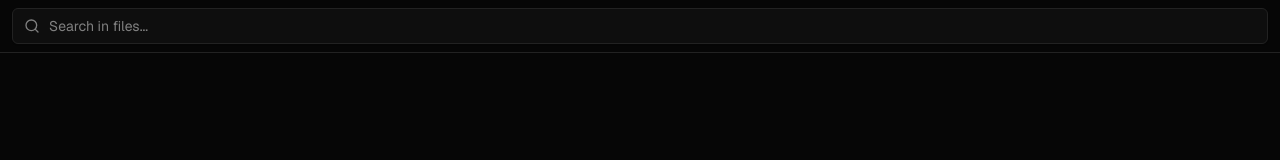
Test: ContentSearch › Search input › should clear input when clear button clicked
Type "test" into the field with placeholder "Search in files...".
click(640, 26); type("test")  # box [12,8,1268,44]
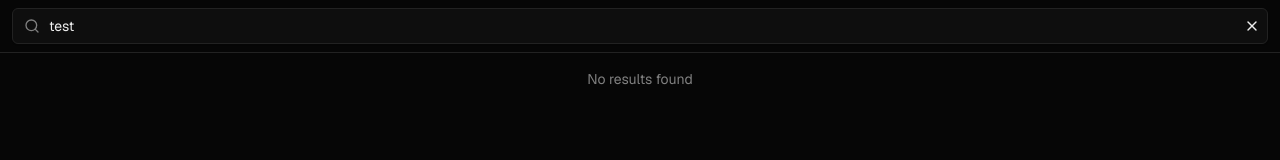
Click the button named "clear".
click(1252, 26)  # box [1240,14,1264,38]
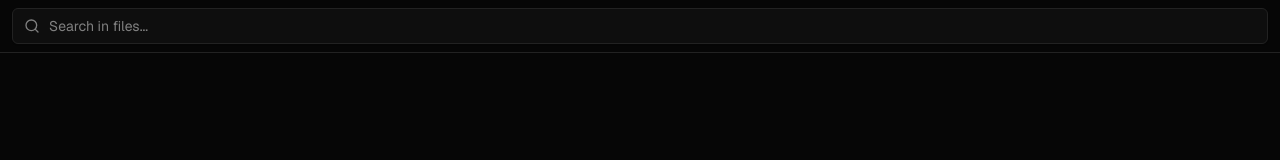
Now the field with placeholder "Search in files..." is empty, box [12,8,1268,44]
